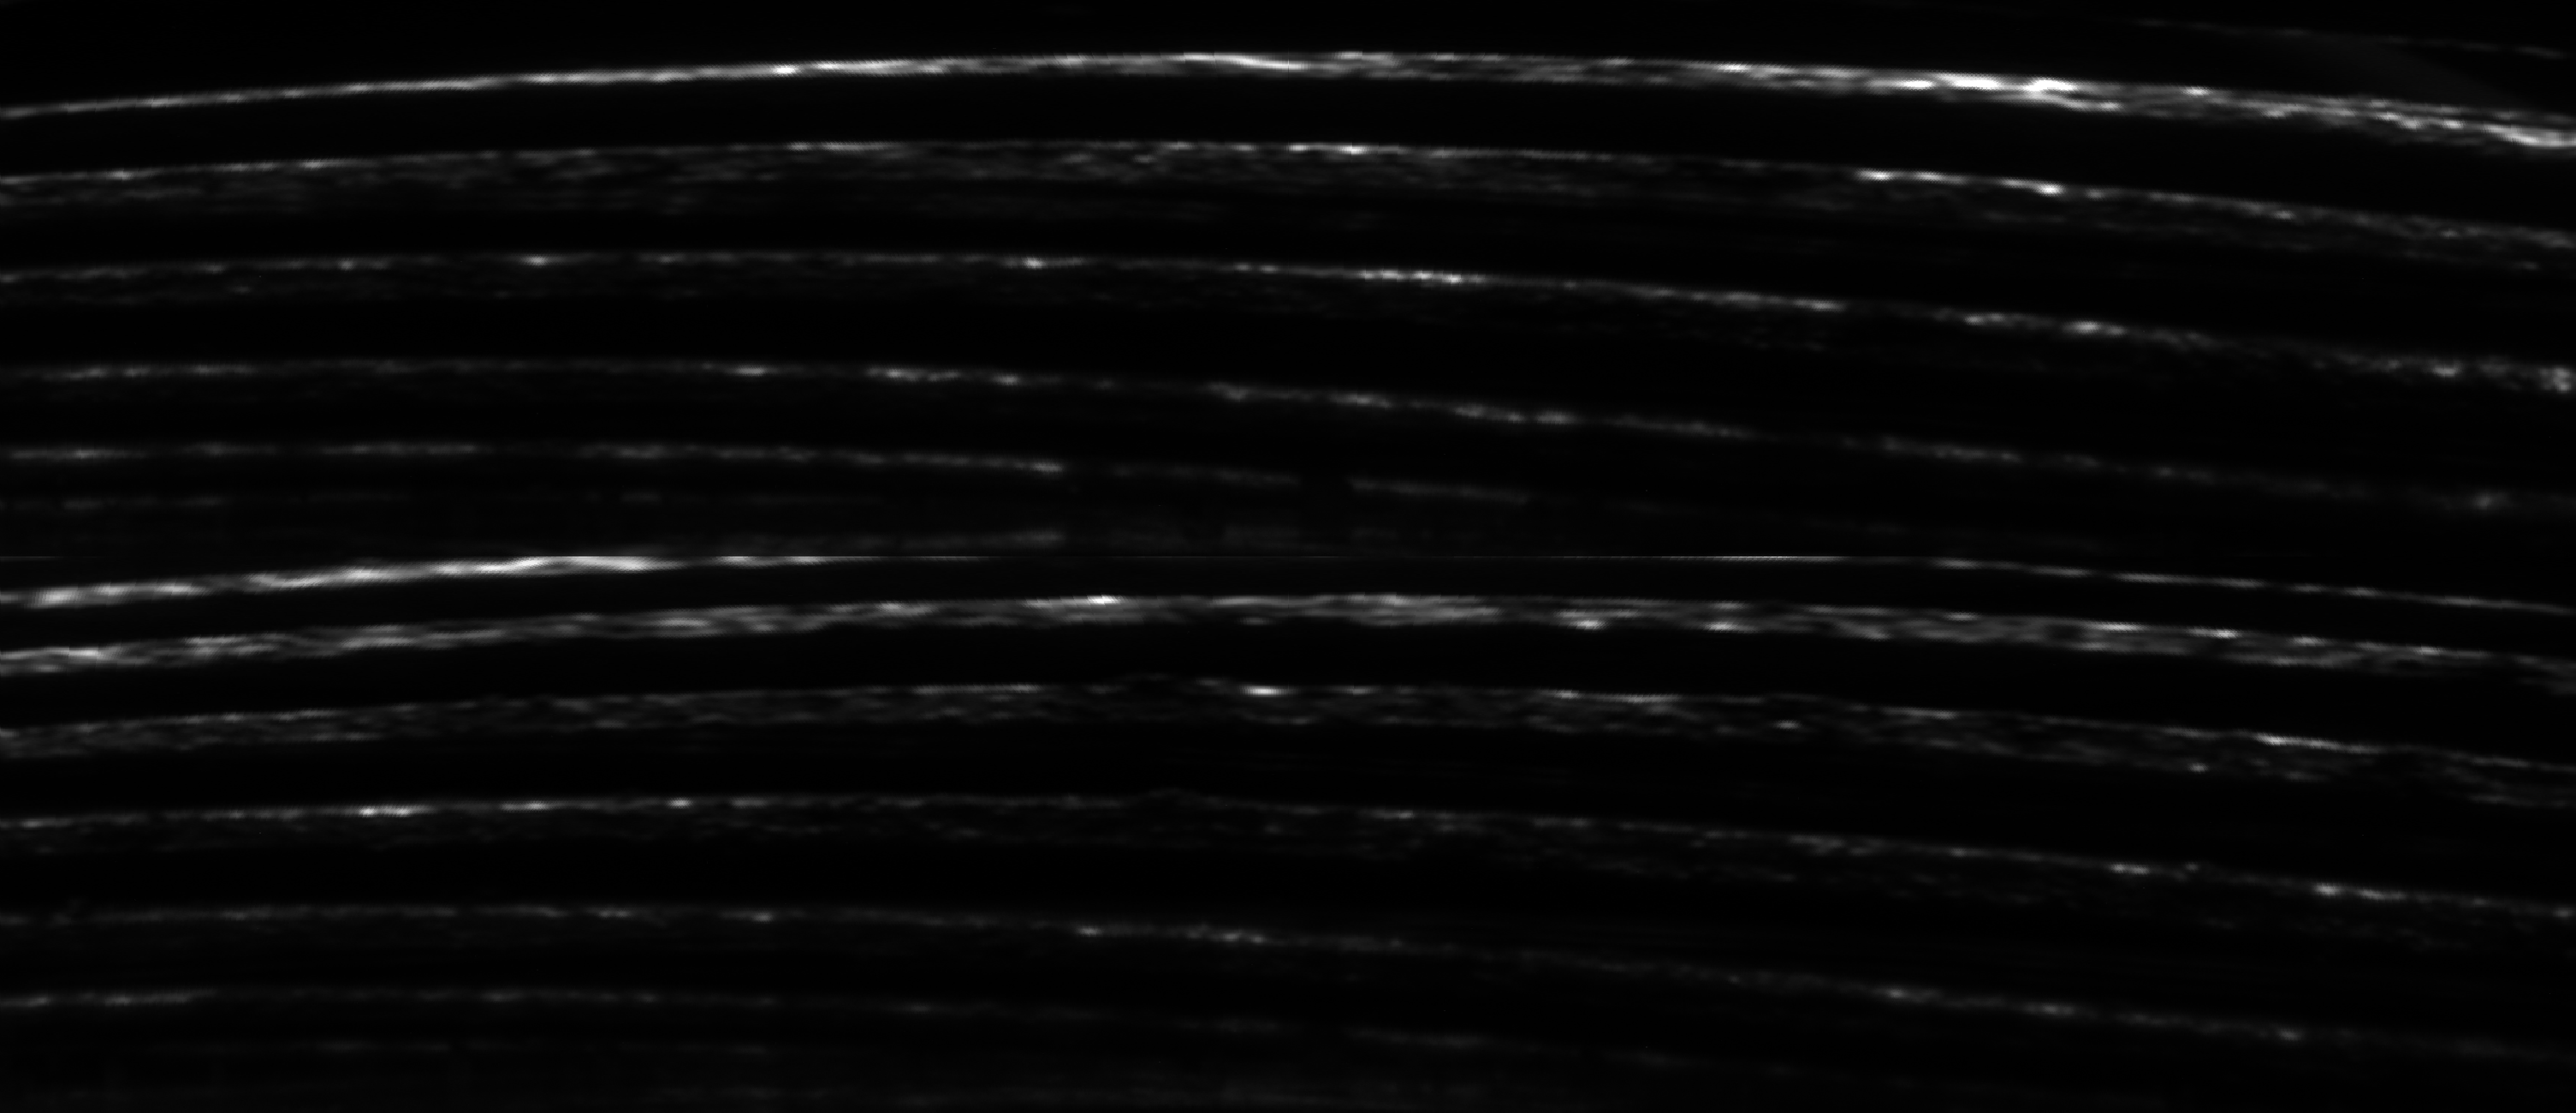extensive chipped: (64, 72, 2553, 577), (54, 602, 2564, 1069)
